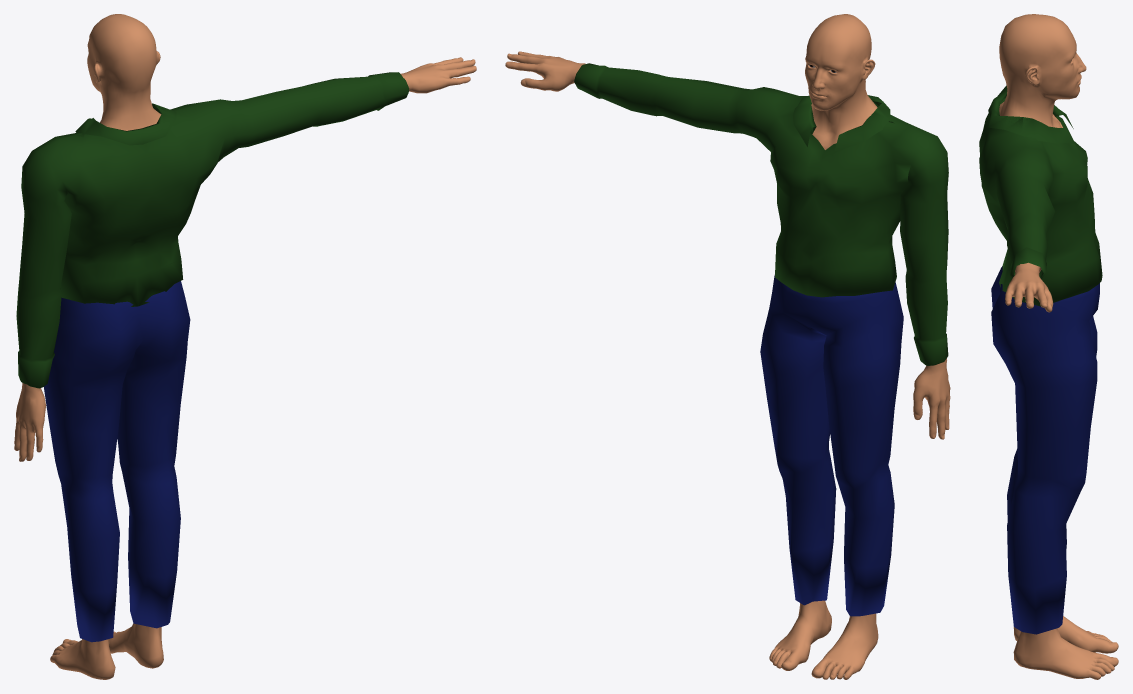
Rendered from point_right_v1.obj.
3 views of the same model, side by side, from view 1: azimuth 30°, elevation 25°; view 2: azimuth 150°, elevation 25°; view 3: azimuth 270°, elevation 25° (orthographic). The views are drawn at different scales.
Visible parts, largest first — view 1: human_16; view 2: human_16; view 3: human_16.
Part boxes in pixels (box(x1,y1,x2,y2)): human_16: box(14, 14, 476, 679); human_16: box(505, 14, 950, 679); human_16: box(979, 14, 1118, 679).
Size of the model in its own units: 1.25 by 1.72 by 0.3372.
